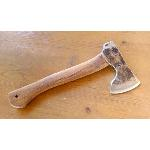Kapak: (0, 39, 142, 112)
